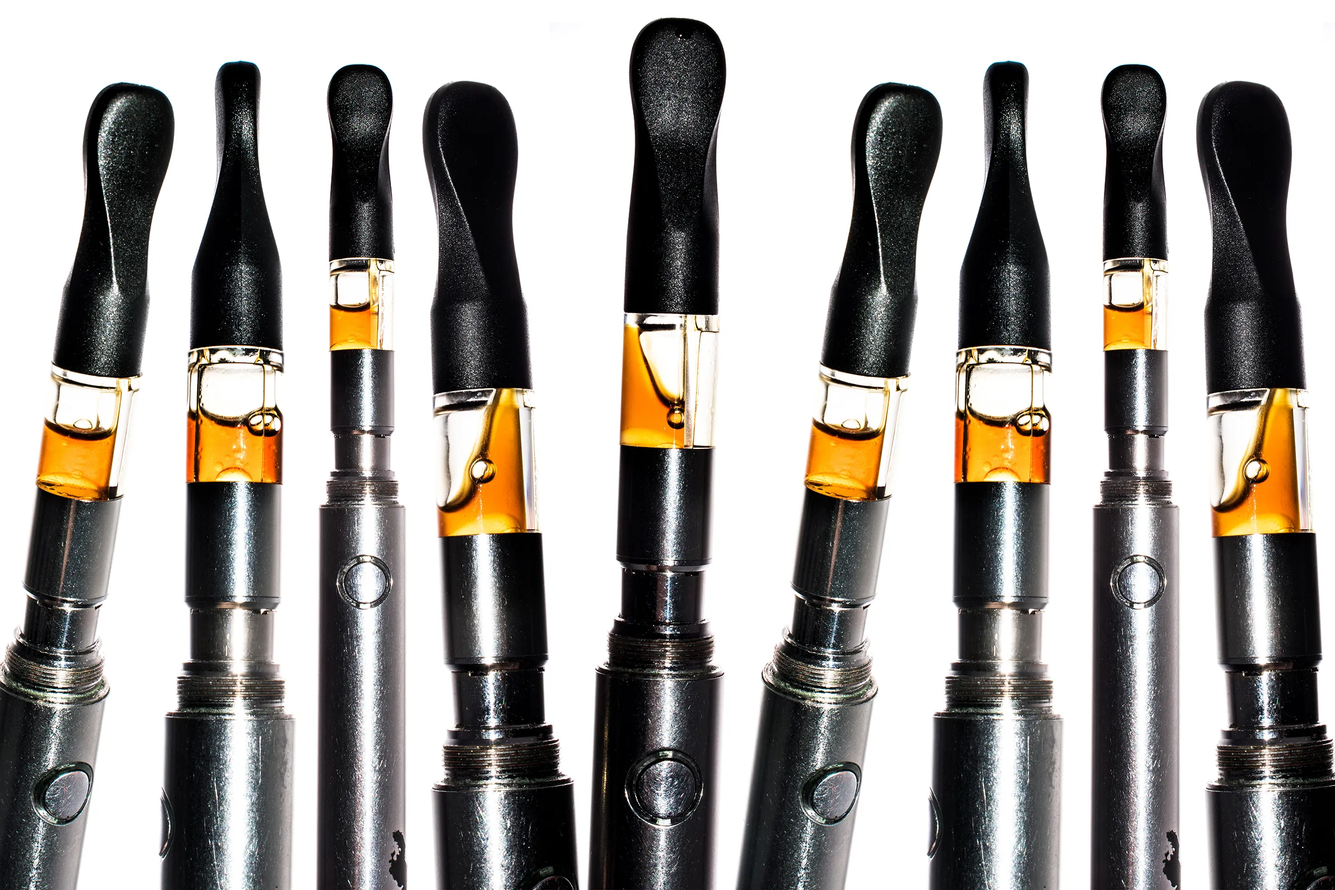weed_pen: (8, 30, 1000, 890), (421, 53, 1326, 884)
